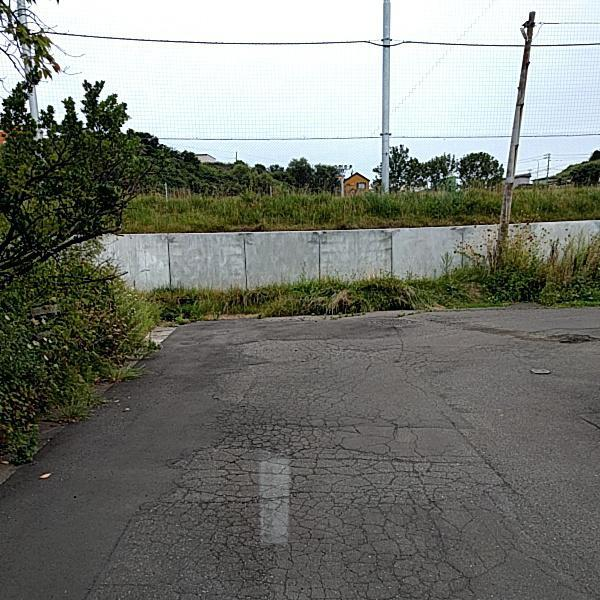D20: (117, 356, 548, 596)
D50: (525, 366, 552, 376)
